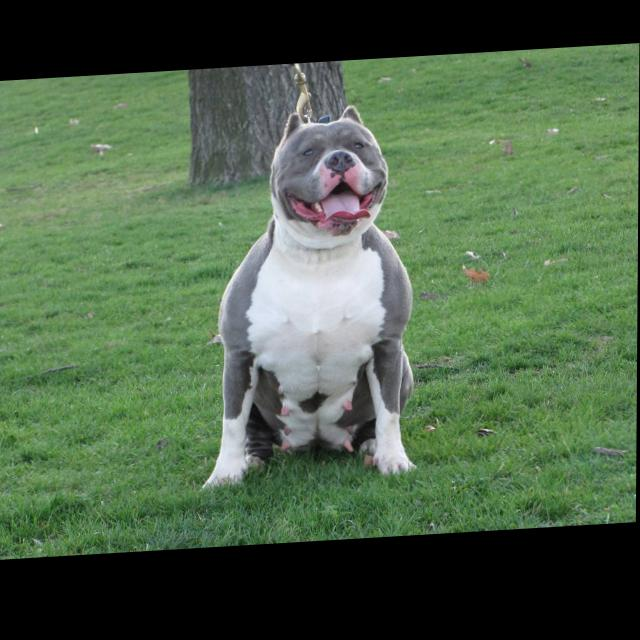am_pit_bull_terrier: (203, 106, 422, 495)
